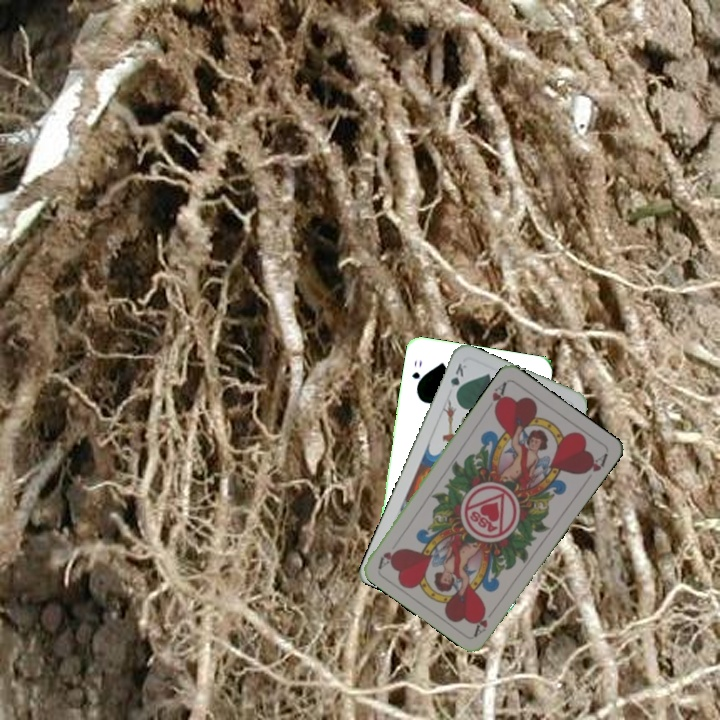GK: (446, 359, 470, 399)
GO: (408, 356, 425, 392)
HA: (488, 377, 510, 416), (470, 604, 490, 638)
